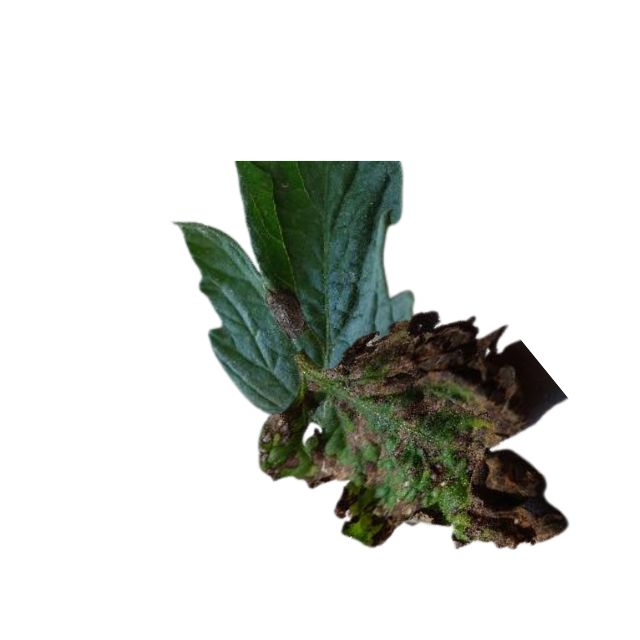Early_blight: (258, 324, 567, 550), (264, 284, 307, 336)
